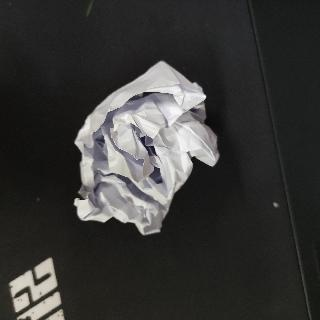8/可回收垃圾/纸: (73, 60, 220, 235)
